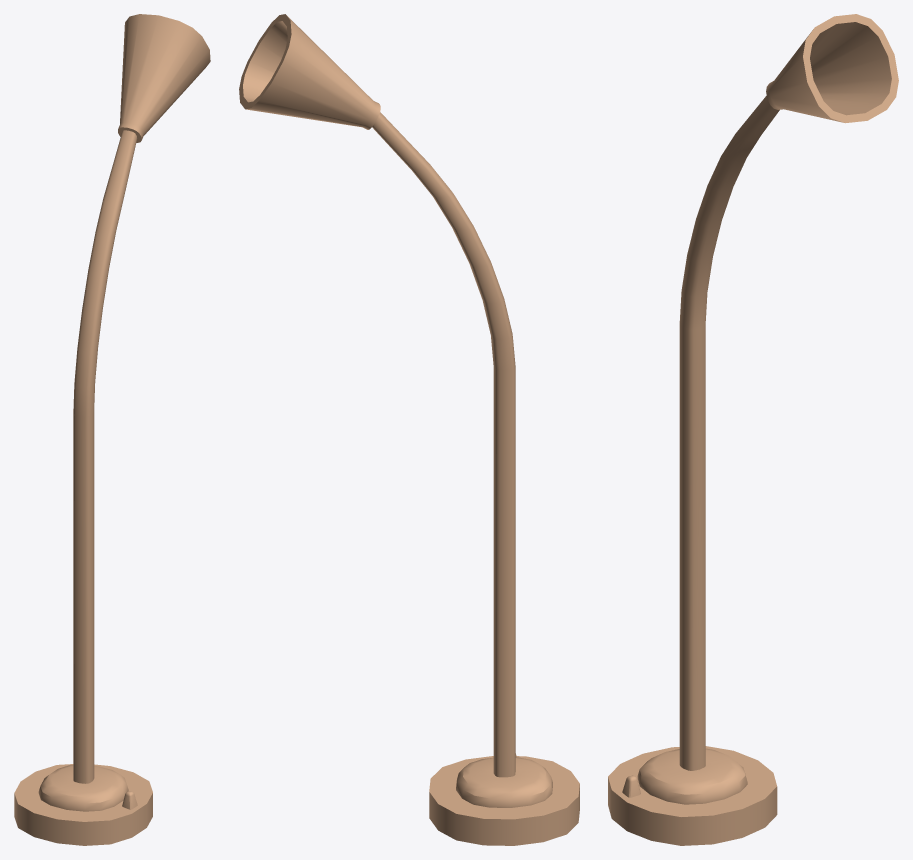
Rendered from base_lamp.glb.
The picture shows the model from 3 angles, left to right: view 1: azimuth 30°, elevation 25°; view 2: azimuth 150°, elevation 25°; view 3: azimuth 270°, elevation 25°; orthographic projection. The views are drawn at different scales.
Parts seen in each view (by area): view 1: Plane.006_Metall_0; view 2: Plane.006_Metall_0; view 3: Plane.006_Metall_0.
Boxes of the visible parts, <box> form: Plane.006_Metall_0: <box>14,14,210,845</box>; Plane.006_Metall_0: <box>239,14,579,845</box>; Plane.006_Metall_0: <box>608,14,898,845</box>.
Size of the model in its own units: 1.78 by 5.13 by 1.55.
